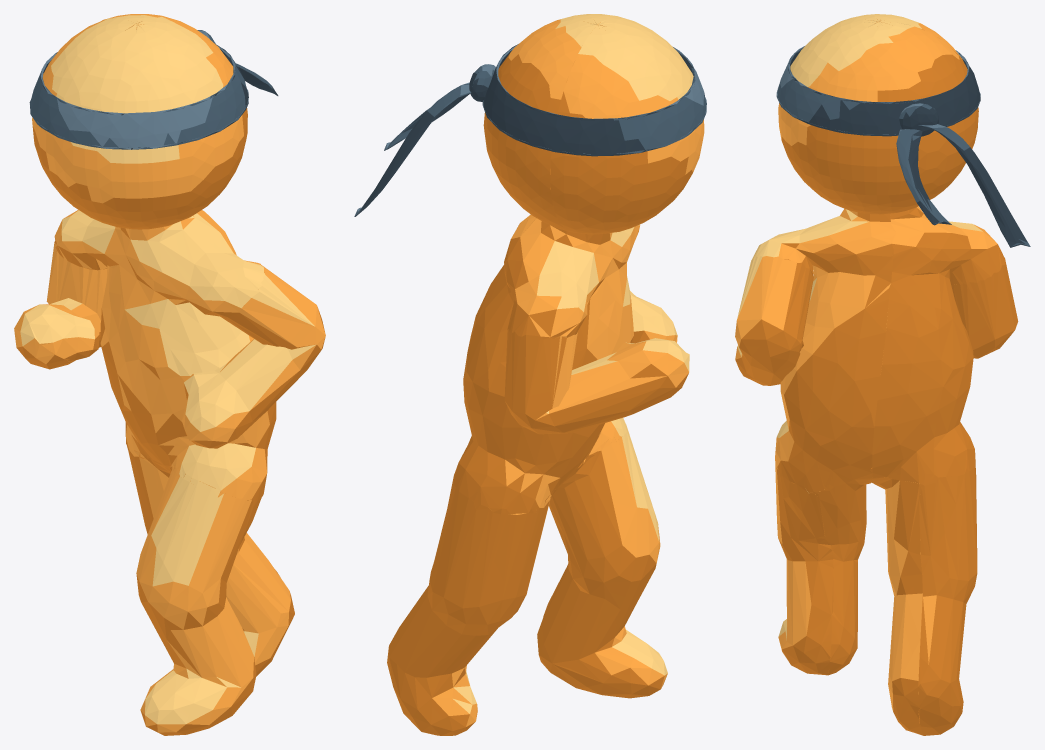
File: Ninja_Jog1_L.gltf
3 renders of one model, left to right at view 1: azimuth 30°, elevation 25°; view 2: azimuth 150°, elevation 25°; view 3: azimuth 270°, elevation 25°, orthographic. The views are drawn at different scales.
Parts seen in each view (by area): view 1: Ninja_Jog1_L_baked; view 2: Ninja_Jog1_L_baked; view 3: Ninja_Jog1_L_baked.
Boxes of the visible parts, <box> form: Ninja_Jog1_L_baked: <box>14,14,325,735</box>; Ninja_Jog1_L_baked: <box>354,14,706,735</box>; Ninja_Jog1_L_baked: <box>735,14,1030,735</box>.
Size of the model in its own units: 0.4139 by 1 by 0.4097.
